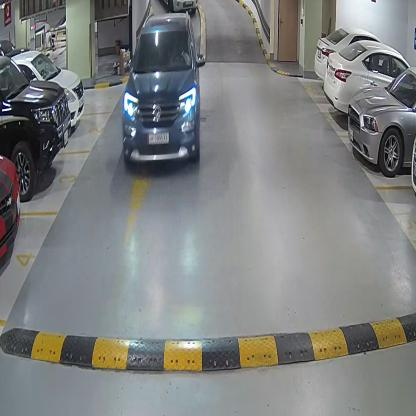np: (147, 132, 168, 144)
